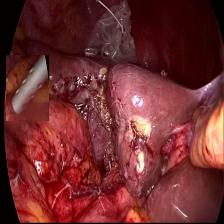Irrigator: (6, 55, 49, 121)
Specimen Bag: (82, 0, 145, 70)
